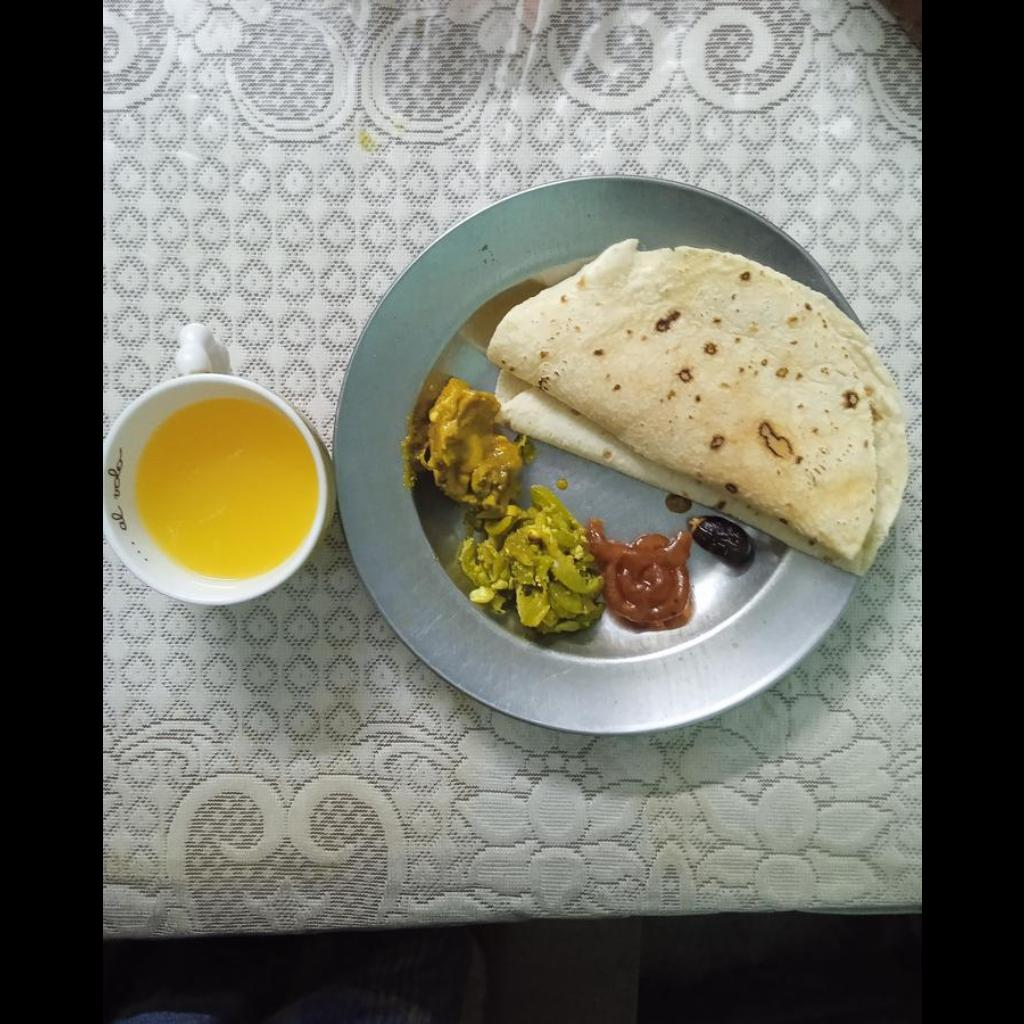chicken: (420, 374, 523, 496)
dates: (691, 517, 753, 567)
dundol: (457, 487, 600, 634)
jilapi: (591, 517, 696, 629)
juice: (131, 404, 319, 585)
ruti: (493, 235, 908, 576)
